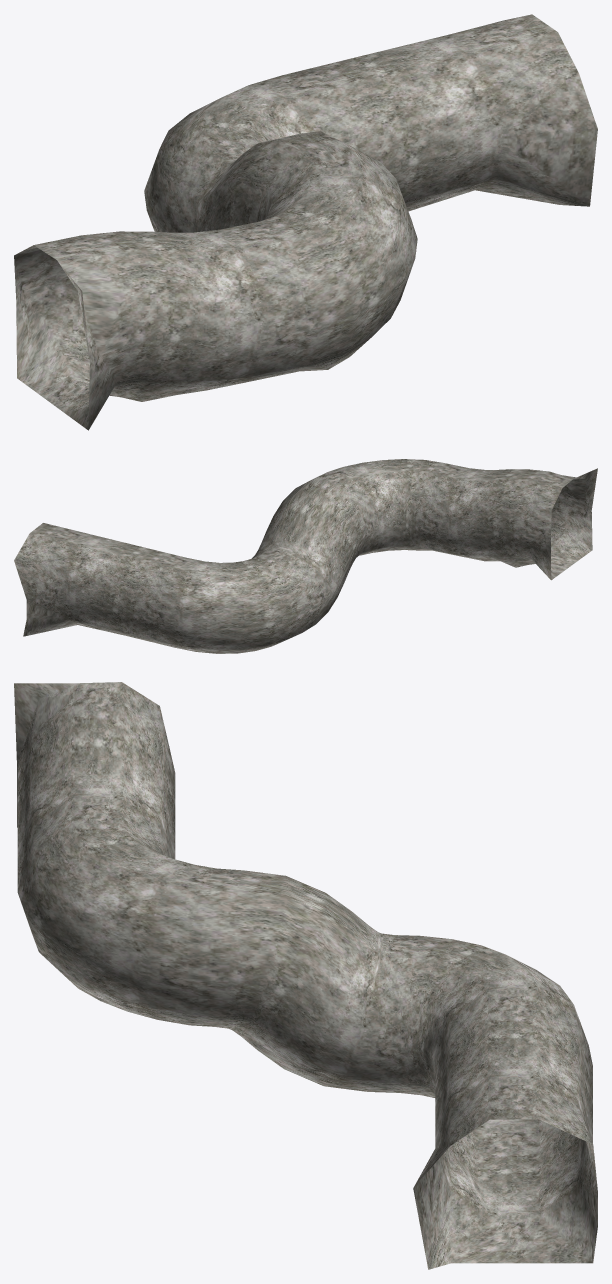
The model's file is DWARF_PALACE_FORGE_WATERROOM_CAVE.fbx.
3 views of the same model, one above another, from view 1: azimuth 30°, elevation 25°; view 2: azimuth 150°, elevation 25°; view 3: azimuth 270°, elevation 25° (orthographic). The views are drawn at different scales.
Visible parts, largest first — view 1: DWARF_PALACE_FORGE_WATERROOM_CAVE; view 2: DWARF_PALACE_FORGE_WATERROOM_CAVE; view 3: DWARF_PALACE_FORGE_WATERROOM_CAVE.
Boxes of the visible parts, bbox=[...] form: DWARF_PALACE_FORGE_WATERROOM_CAVE: bbox=[14, 14, 597, 430]; DWARF_PALACE_FORGE_WATERROOM_CAVE: bbox=[14, 459, 597, 653]; DWARF_PALACE_FORGE_WATERROOM_CAVE: bbox=[14, 682, 597, 1269].
Bounding box in the file's own units: 518125 × 173201 × 370013.
Materials: 1 (1 with a texture image).
